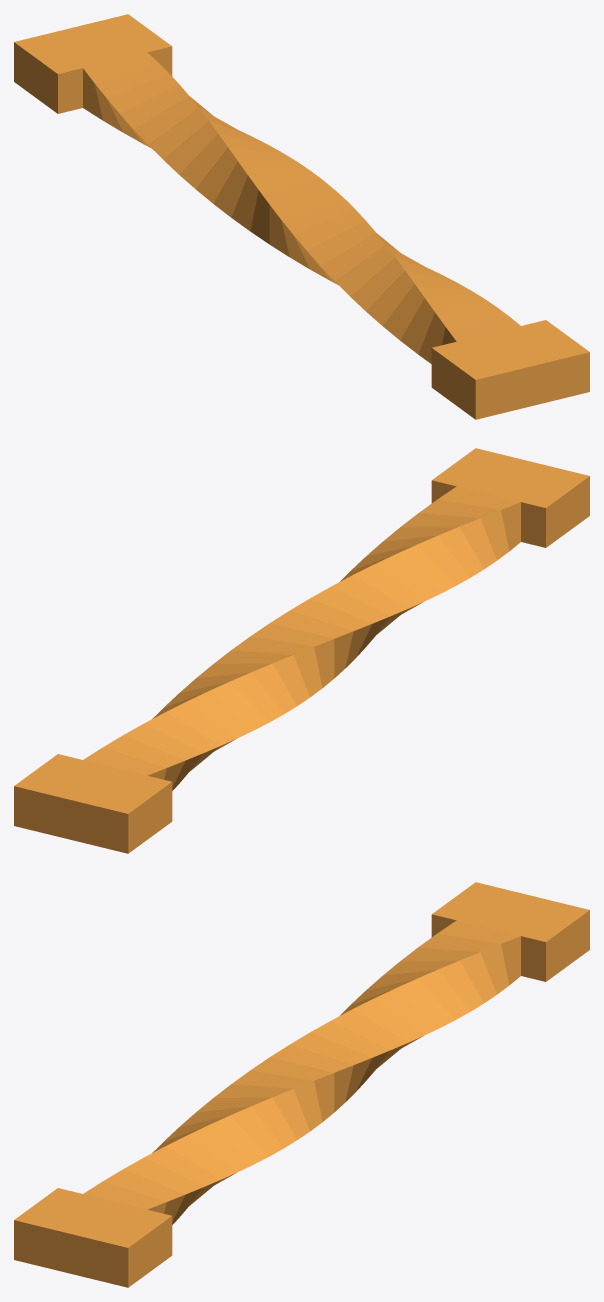
Rendered from twist.glb.
3 renders of one model, top to bottom at view 1: azimuth 30°, elevation 25°; view 2: azimuth 150°, elevation 25°; view 3: azimuth 330°, elevation 25°, orthographic.
Parts seen in each view (by area): view 1: Plane, Cube, Cube.001; view 2: Plane, Cube.001, Cube; view 3: Plane, Cube, Cube.001.
Boxes of the visible parts, box(x1,y1,x2,y2) form: Plane: box(83, 52, 520, 363); Cube: box(431, 320, 589, 419); Cube.001: box(14, 14, 172, 113); Plane: box(83, 486, 520, 790); Cube.001: box(14, 754, 172, 853); Cube: box(431, 448, 589, 547); Plane: box(83, 920, 520, 1224); Cube: box(14, 1188, 172, 1287); Cube.001: box(431, 882, 589, 981).
Size of the model in its own units: 18 by 8.49 by 126.
Materials: 1 (1 with a texture image).
